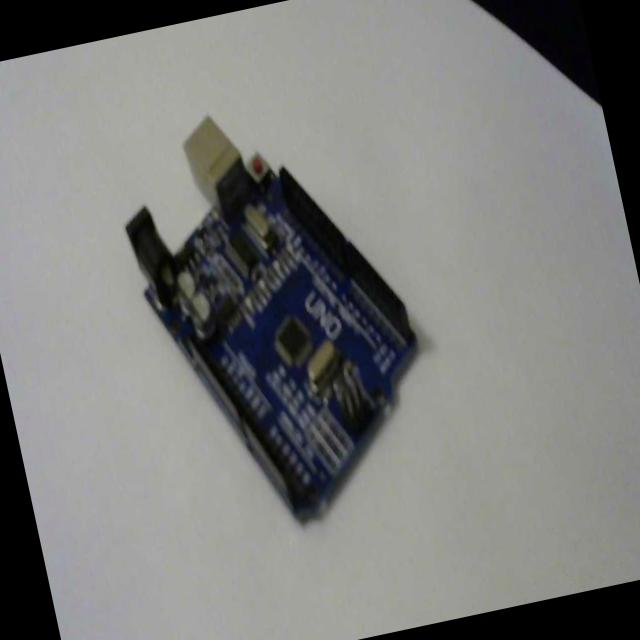arduino: (102, 77, 452, 550)
